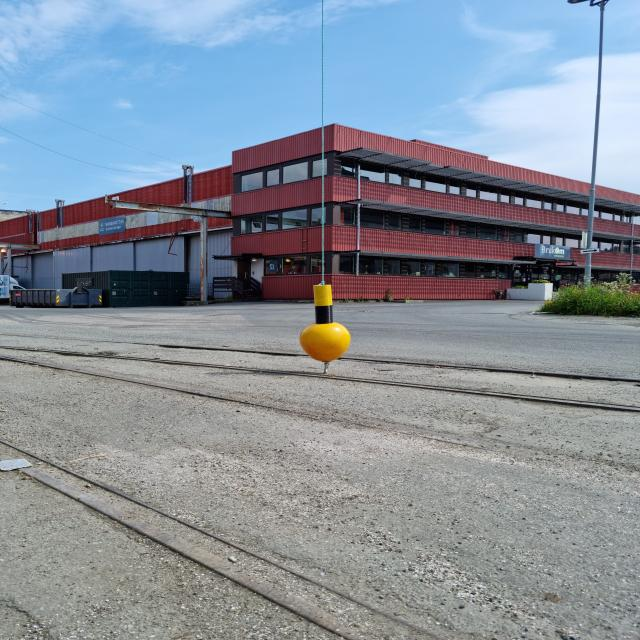west: (300, 284, 353, 360)
